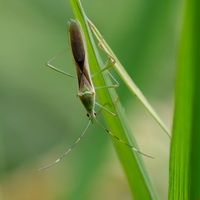insect: (39, 19, 153, 169)
